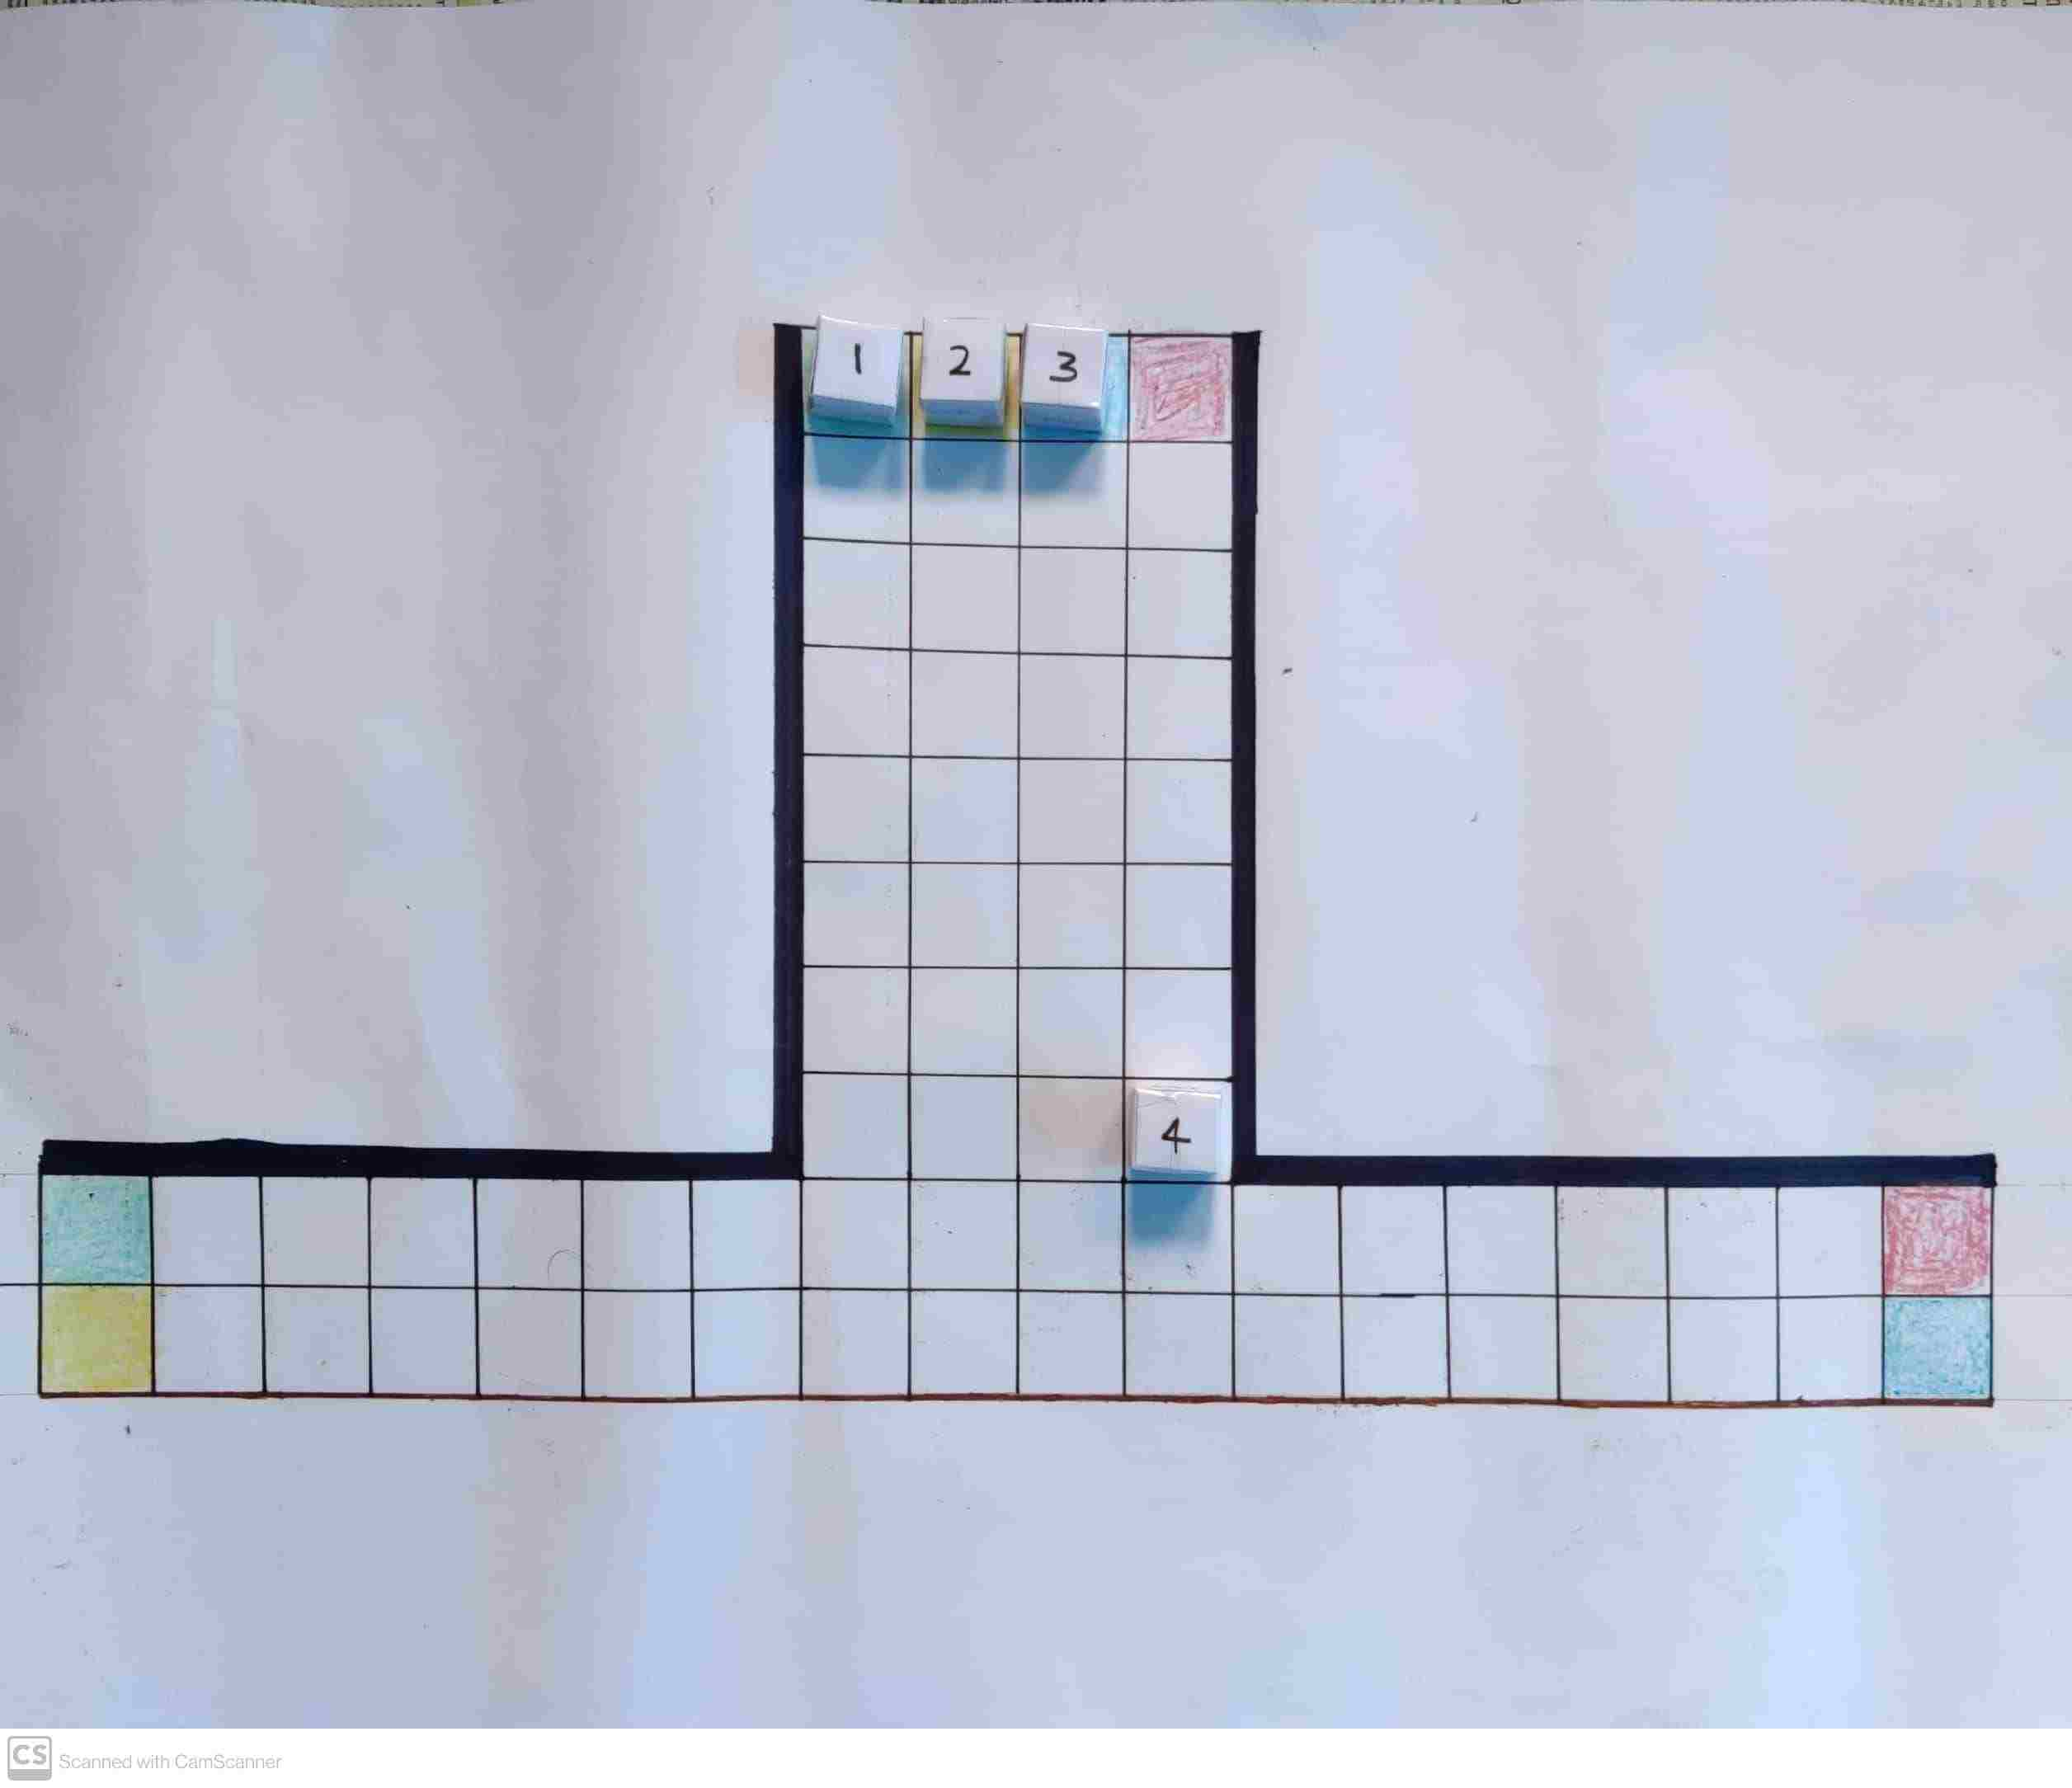arena: (39, 324, 1994, 1411)
bot: (1024, 322, 1108, 405), (1136, 1092, 1219, 1173), (818, 328, 904, 405), (923, 322, 1006, 400)
